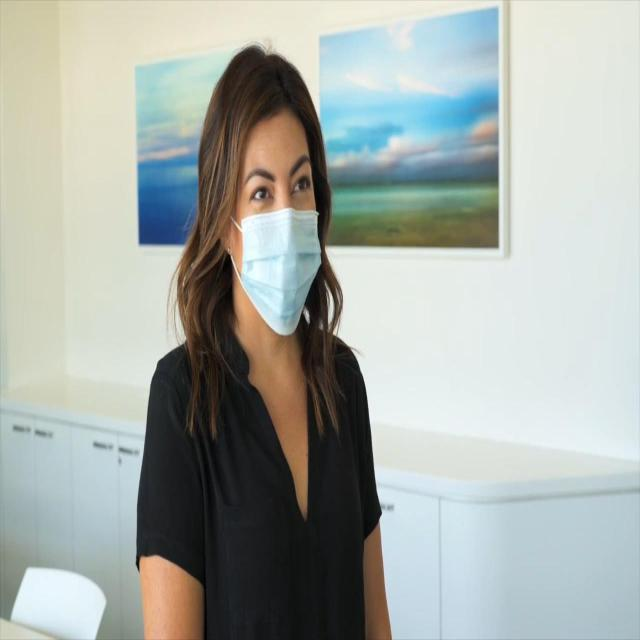Mask: (225, 104, 323, 336)
